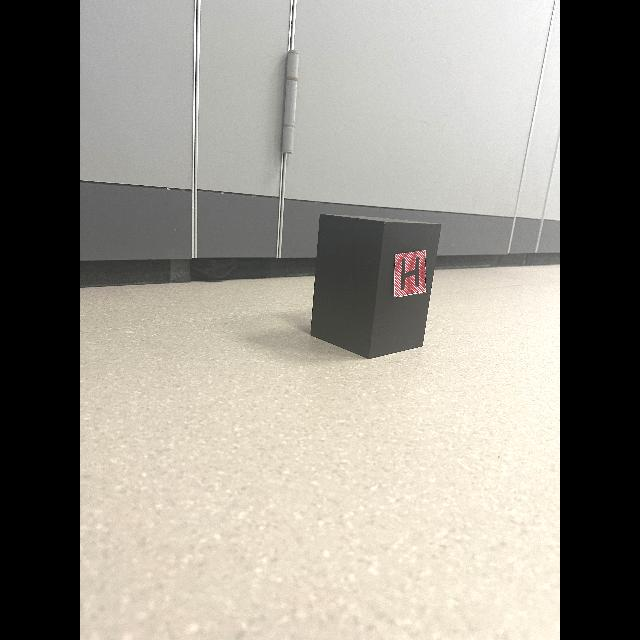H: (401, 257, 419, 290)
